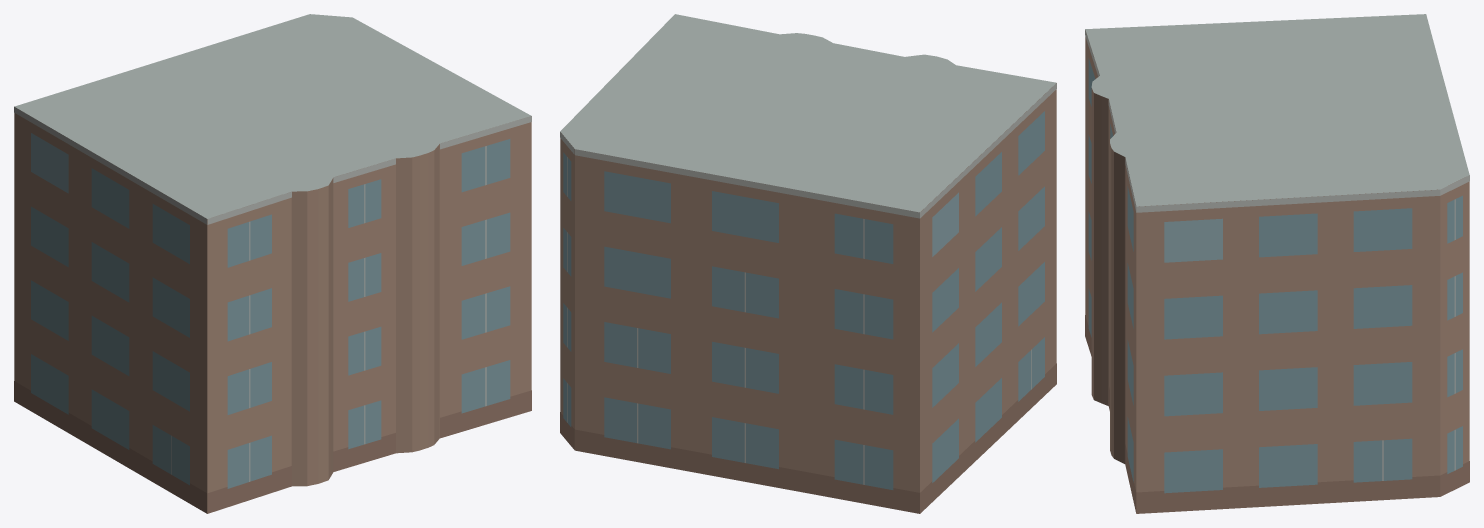
The model's file is survey-upis-32988448.glb.
The picture shows the model from 3 angles, left to right: view 1: azimuth 30°, elevation 25°; view 2: azimuth 150°, elevation 25°; view 3: azimuth 270°, elevation 25°; orthographic projection. The views are drawn at different scales.
Visible parts, largest first — view 1: survey-upis-32988448.tmp; view 2: survey-upis-32988448.tmp; view 3: survey-upis-32988448.tmp.
Boxes of the visible parts, x1,y1,x2,y2 form: survey-upis-32988448.tmp: (14, 14, 531, 513); survey-upis-32988448.tmp: (560, 14, 1056, 513); survey-upis-32988448.tmp: (1085, 14, 1469, 513).
Size of the model in its own units: 16.14 by 12 by 13.62.
